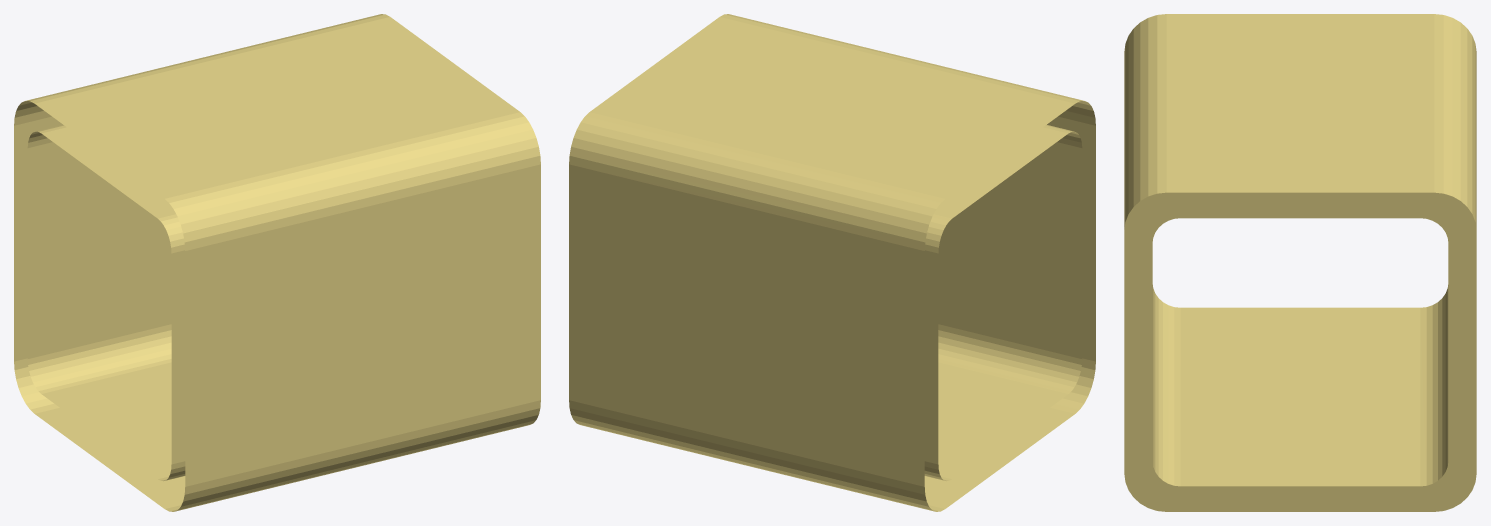
File: RailLeft_19.obj
3 views of the same model, side by side, from view 1: azimuth 30°, elevation 25°; view 2: azimuth 150°, elevation 25°; view 3: azimuth 270°, elevation 25° (orthographic). The views are drawn at different scales.
Visible parts, largest first — view 1: RailLeft_19_14; view 2: RailLeft_19_14; view 3: RailLeft_19_14.
Boxes of the visible parts, box(x1,y1,x2,y2) form: RailLeft_19_14: box(14, 14, 540, 511); RailLeft_19_14: box(569, 14, 1095, 511); RailLeft_19_14: box(1124, 14, 1476, 511).
Bounding box in the file's own units: 0.03 × 0.025 × 0.025.
